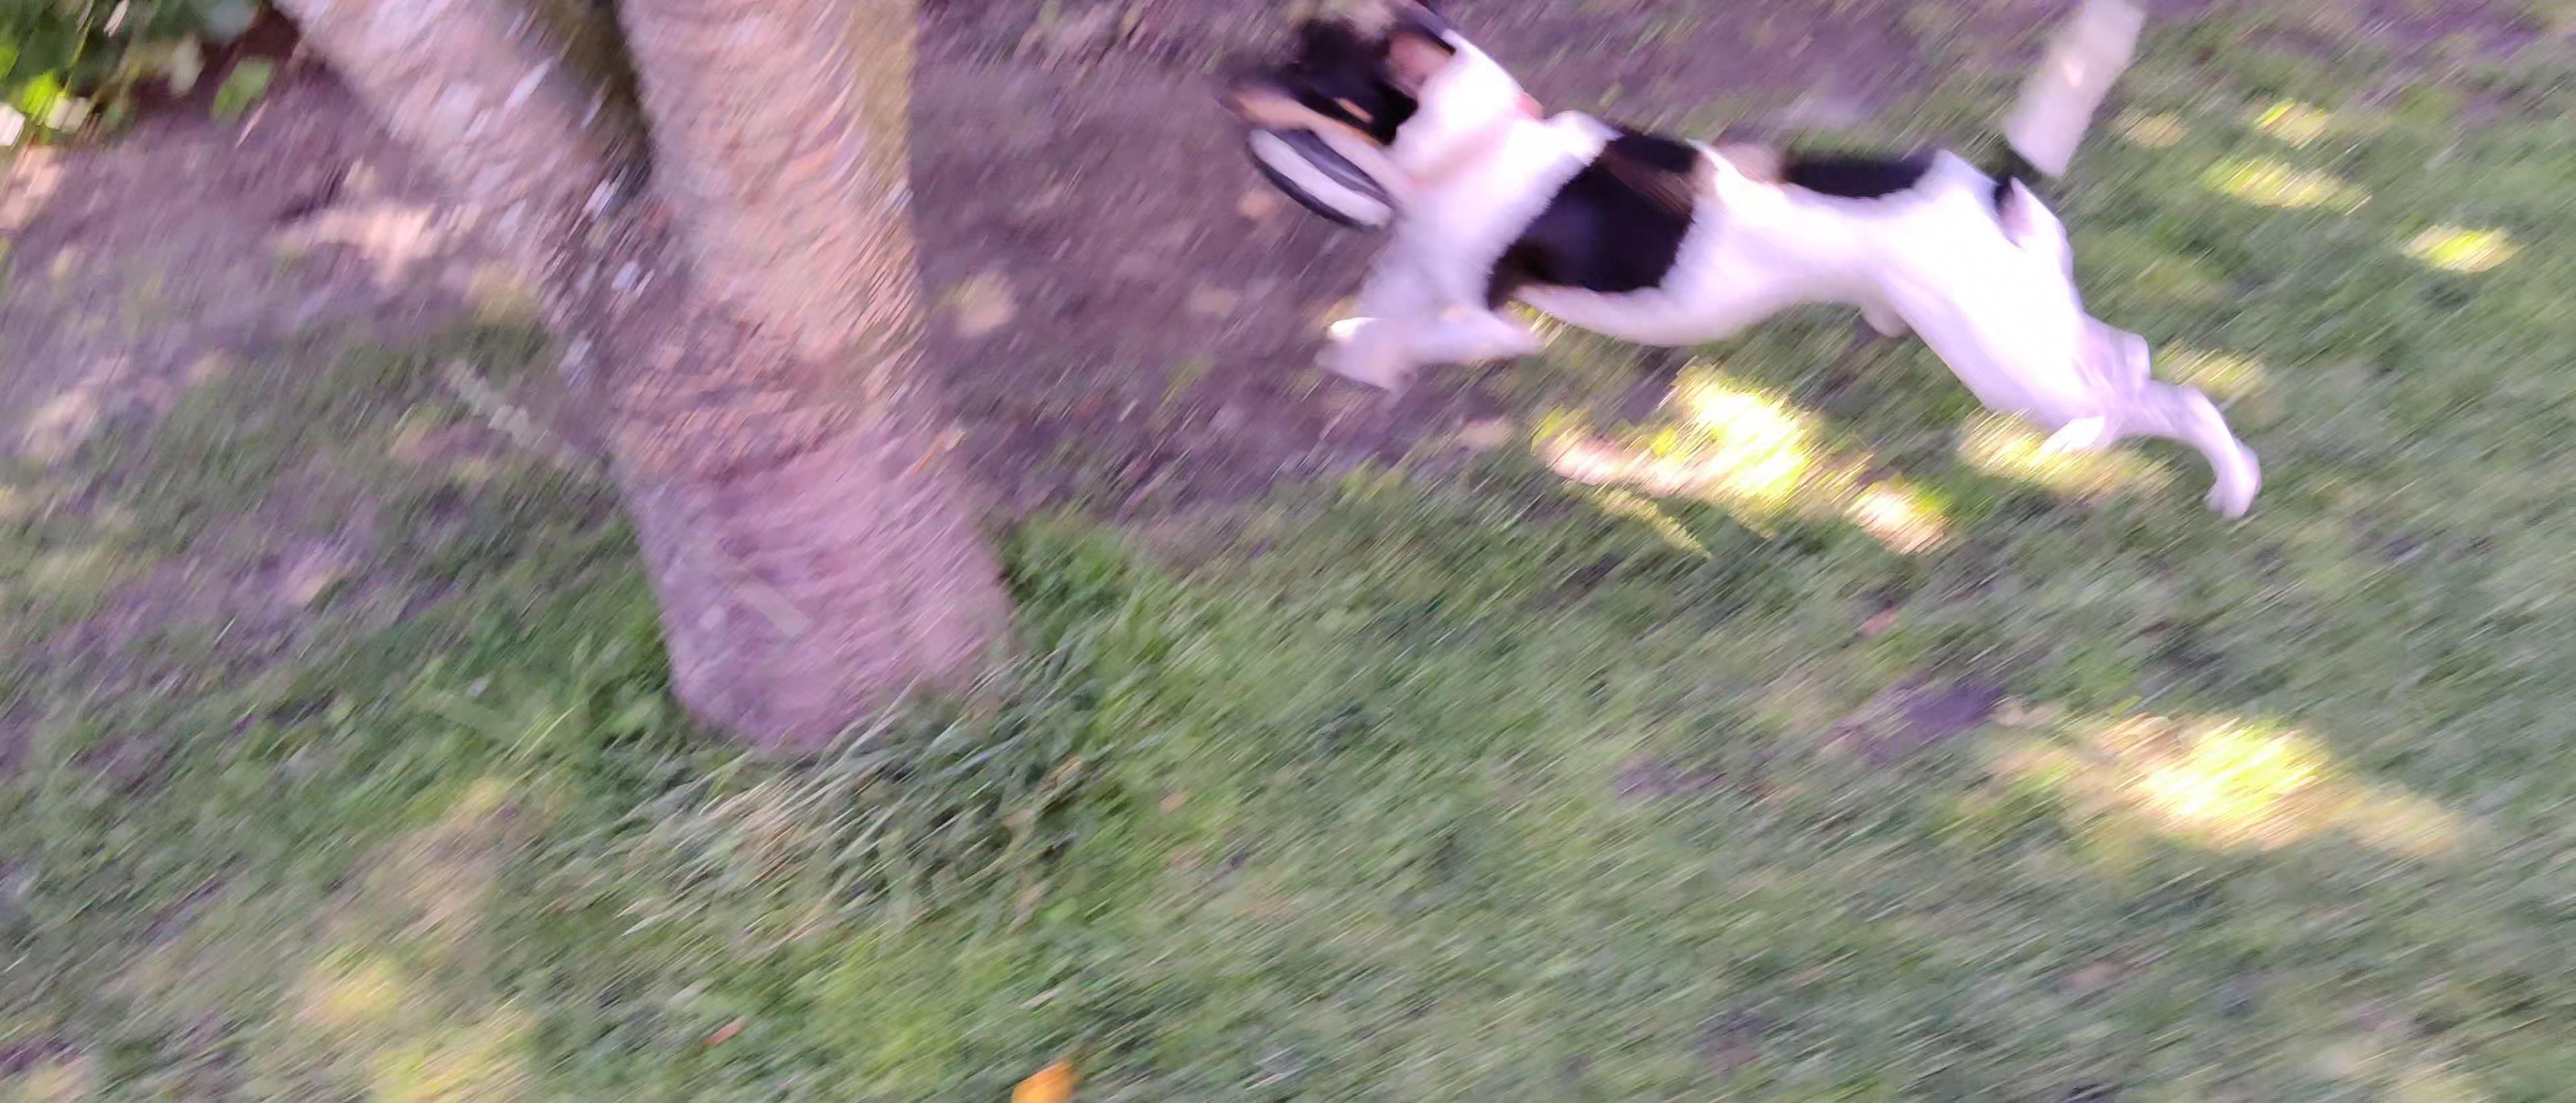Dog: (1188, 0, 2274, 546)
